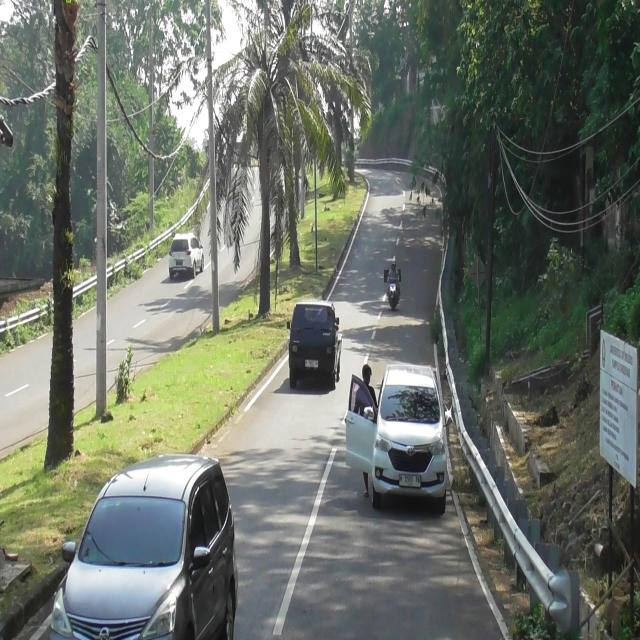motorcycle: (389, 276, 398, 309)
person: (388, 259, 400, 281)
rider_region: (387, 258, 401, 308)
